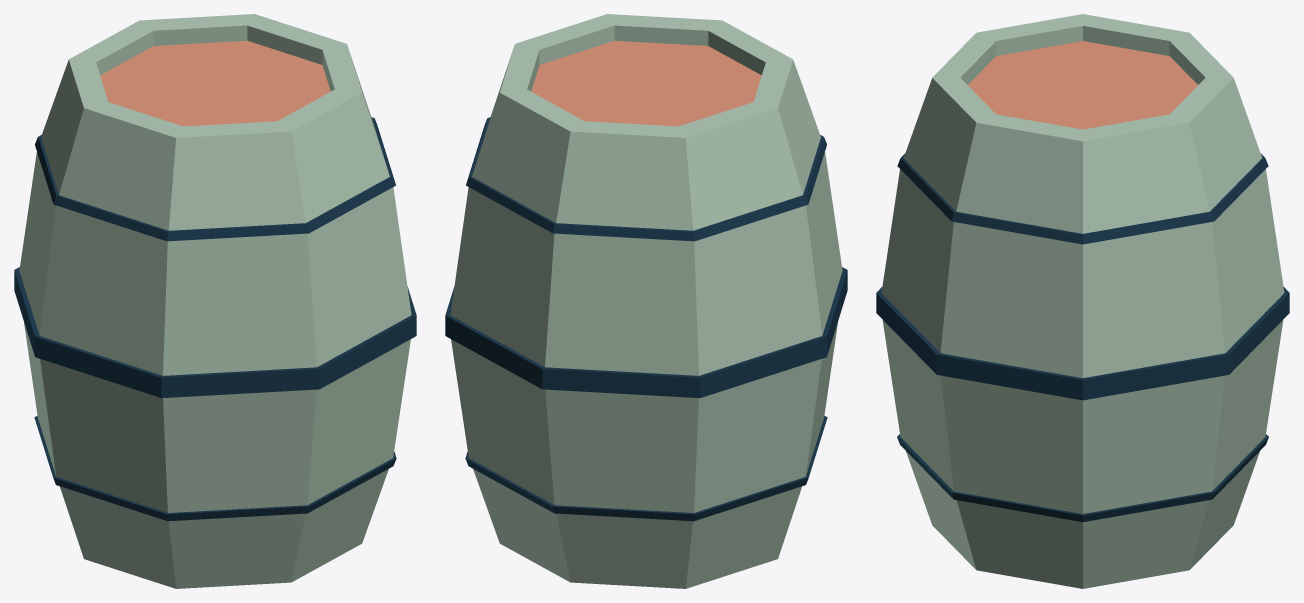
The model's file is barrel.fbx.
3 renders of one model, left to right at view 1: azimuth 30°, elevation 25°; view 2: azimuth 150°, elevation 25°; view 3: azimuth 270°, elevation 25°, orthographic.
Parts seen in each view (by area): view 1: Cylinder; view 2: Cylinder; view 3: Cylinder.
Boxes of the visible parts, bbox=[...] form: Cylinder: bbox=[14, 14, 416, 588]; Cylinder: bbox=[445, 14, 847, 588]; Cylinder: bbox=[876, 14, 1289, 588].
Bounding box in the file's own units: 228 × 272 × 228.
